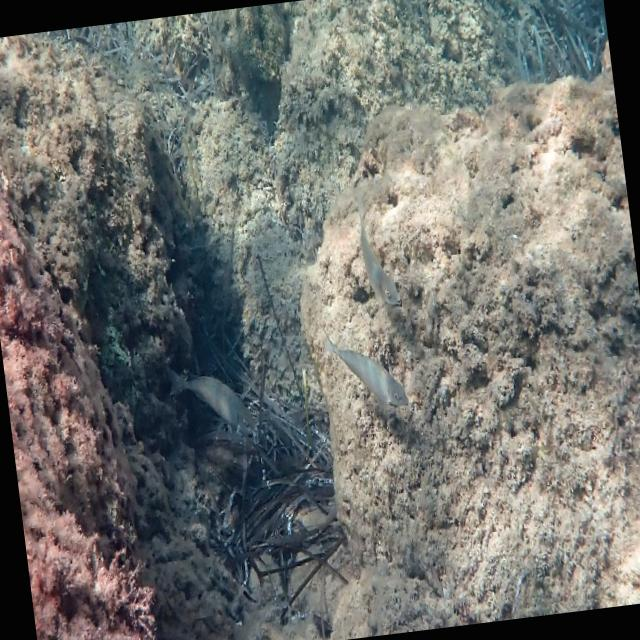Sokar Baligi: (315, 298, 416, 442), (342, 197, 414, 321)
